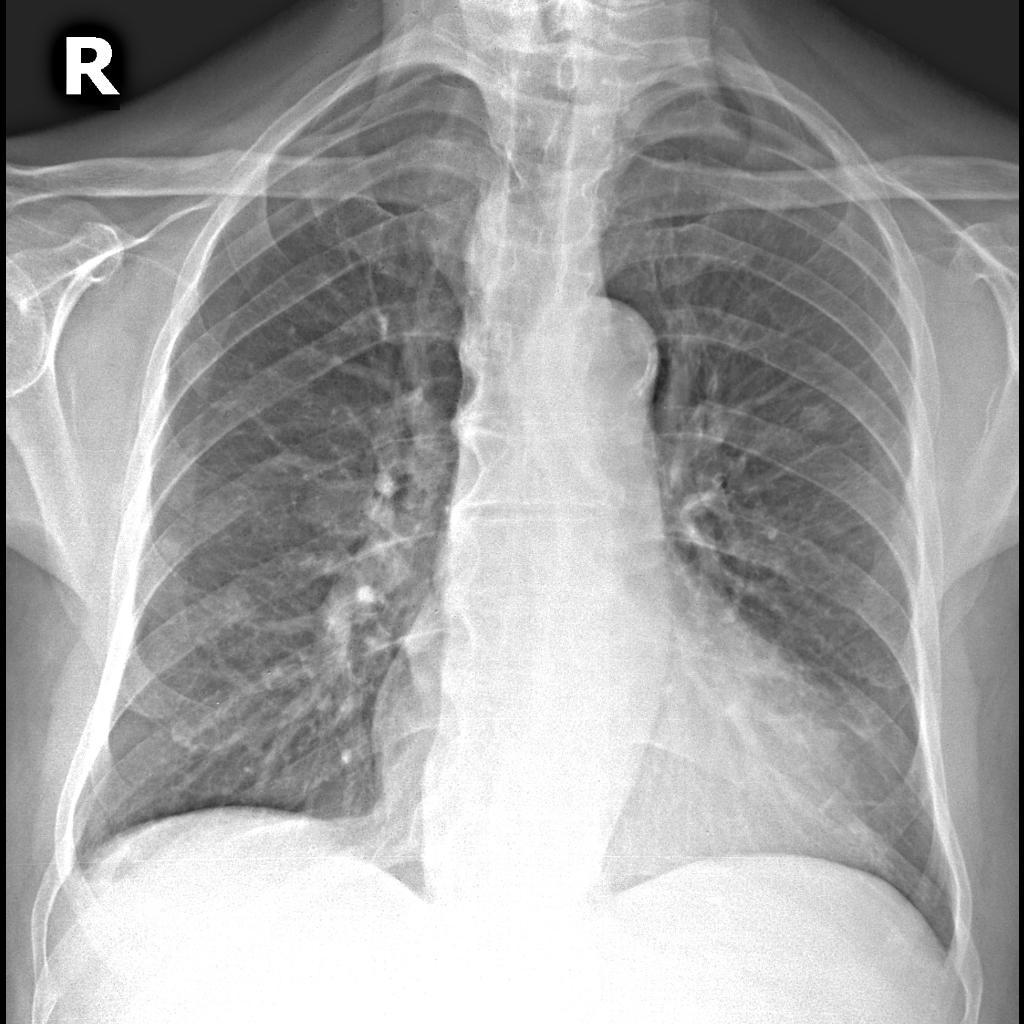Nodule: (288, 460, 379, 544), (791, 389, 840, 441)
